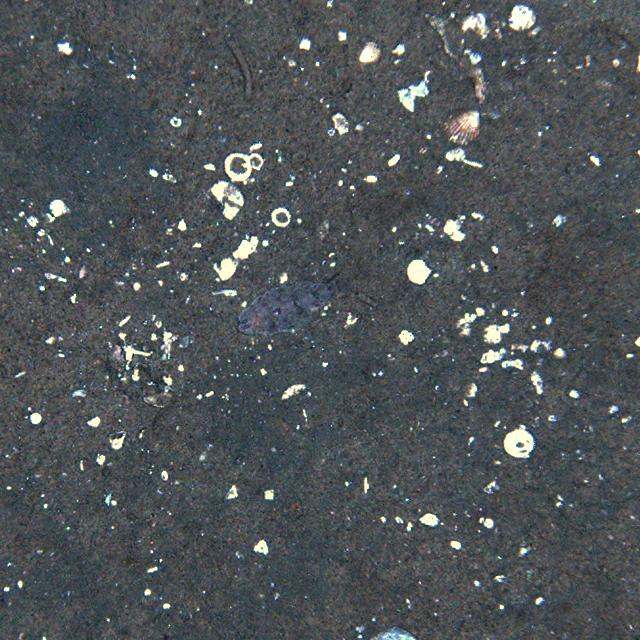flatfish: (236, 277, 346, 343)
